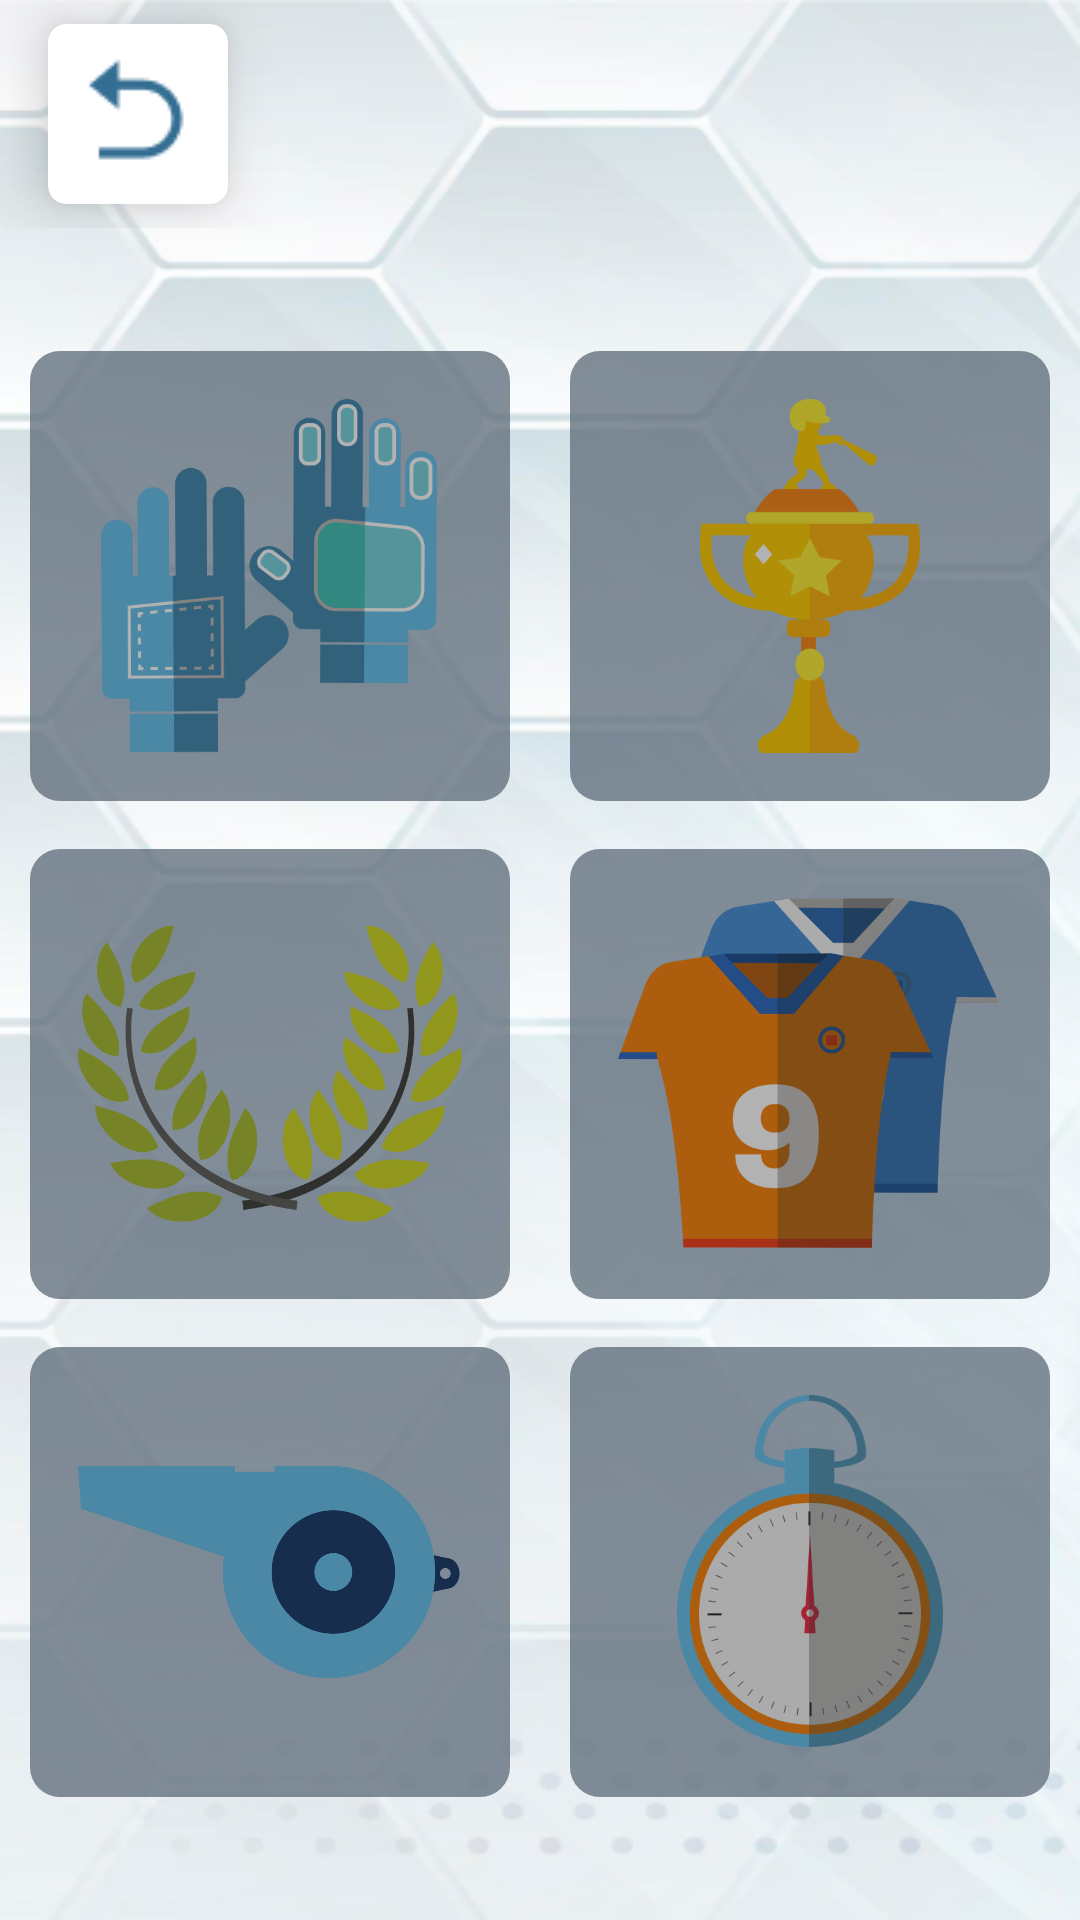

Screen size 1080 × 1920. Icon name, then its box in pixels as (x1, y1, x2, y2):
back: (48, 24, 228, 204)
